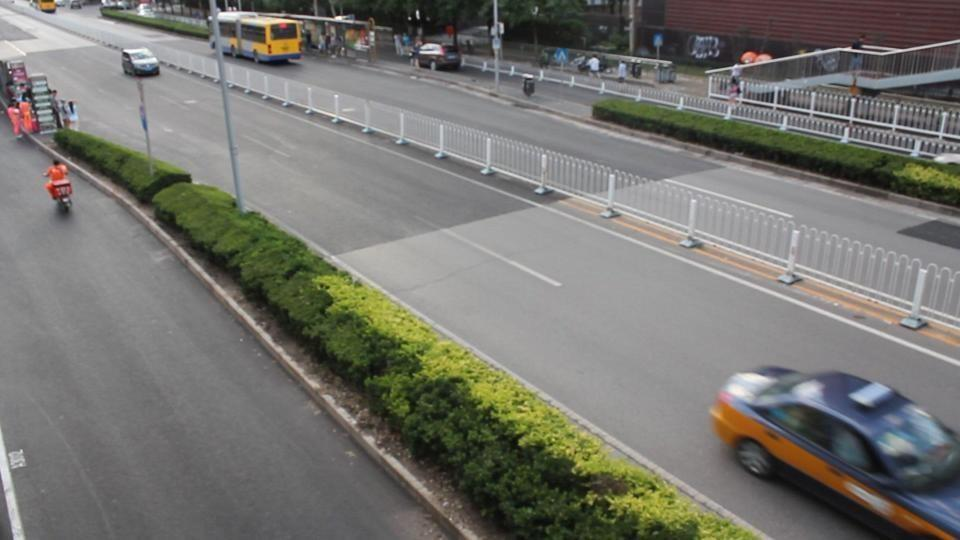car: (708, 366, 960, 540), (415, 42, 463, 71), (120, 48, 160, 77), (35, 0, 57, 13), (61, 0, 81, 9)
